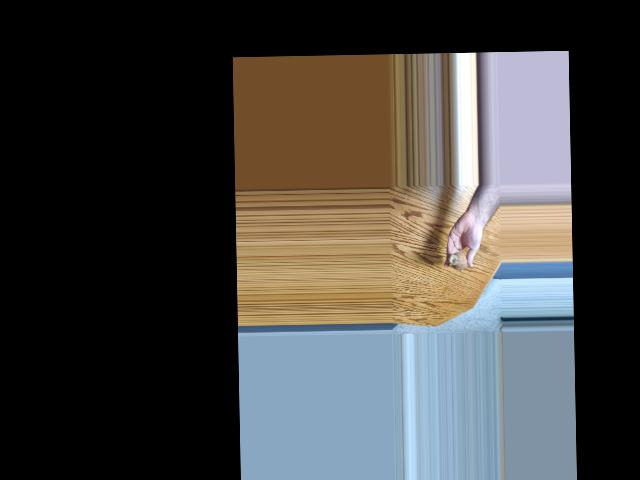sweet_potato: (450, 252, 468, 271)
